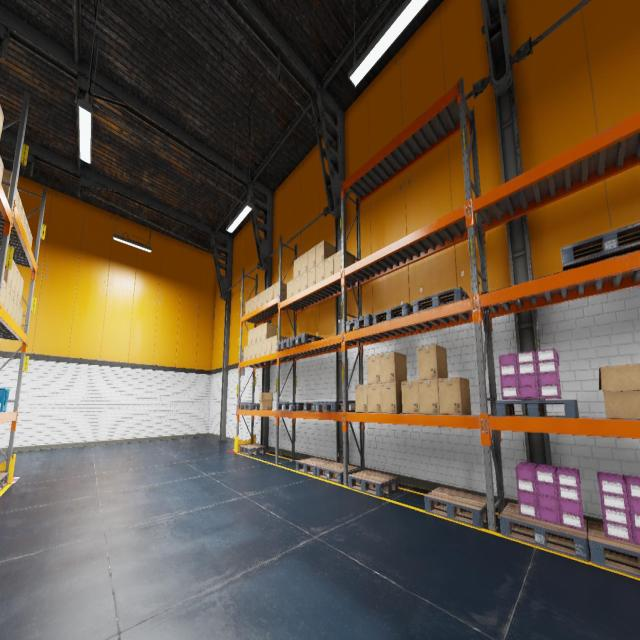box: (598, 363, 640, 419), (438, 377, 471, 415), (417, 344, 448, 380), (380, 352, 407, 383), (419, 379, 440, 414), (381, 382, 402, 413), (401, 381, 420, 414), (334, 249, 355, 278), (0, 252, 15, 290), (316, 240, 336, 265), (368, 383, 382, 412), (367, 354, 380, 384), (355, 384, 368, 412), (1, 169, 12, 200), (261, 322, 278, 340), (272, 336, 288, 354), (258, 392, 273, 410), (11, 263, 18, 296), (324, 255, 334, 278), (273, 282, 287, 298), (0, 279, 7, 307), (15, 270, 21, 300), (316, 261, 324, 283), (300, 252, 308, 274), (17, 276, 23, 305), (308, 246, 315, 270), (4, 285, 10, 312), (308, 266, 315, 288), (293, 256, 300, 278), (0, 103, 4, 141), (8, 291, 14, 316), (300, 271, 307, 291), (293, 275, 300, 295), (12, 296, 17, 321), (287, 279, 293, 299), (0, 154, 4, 183), (15, 301, 20, 324), (18, 306, 23, 328), (262, 288, 268, 305), (266, 338, 272, 354), (18, 196, 22, 219), (268, 284, 273, 302), (261, 339, 266, 356), (252, 327, 257, 344), (21, 206, 25, 227), (16, 189, 20, 209), (256, 341, 261, 357), (247, 344, 252, 360), (253, 294, 258, 310), (24, 216, 28, 235), (258, 292, 263, 307), (257, 325, 261, 342), (252, 342, 256, 358), (248, 329, 252, 345), (244, 346, 248, 361), (245, 300, 249, 315), (249, 298, 253, 312), (27, 224, 30, 242), (29, 232, 32, 248), (0, 403, 1, 409)
pallets: (499, 502, 589, 562), (560, 222, 640, 270), (588, 520, 640, 578), (424, 487, 488, 528), (496, 400, 578, 418), (413, 287, 469, 313), (348, 470, 398, 497), (316, 462, 358, 484), (372, 303, 412, 325), (296, 457, 334, 476), (290, 333, 324, 347), (346, 314, 372, 332), (315, 401, 355, 412), (277, 402, 310, 411), (239, 444, 266, 455), (276, 338, 298, 351), (296, 402, 322, 411), (0, 472, 9, 491), (240, 403, 259, 409)
